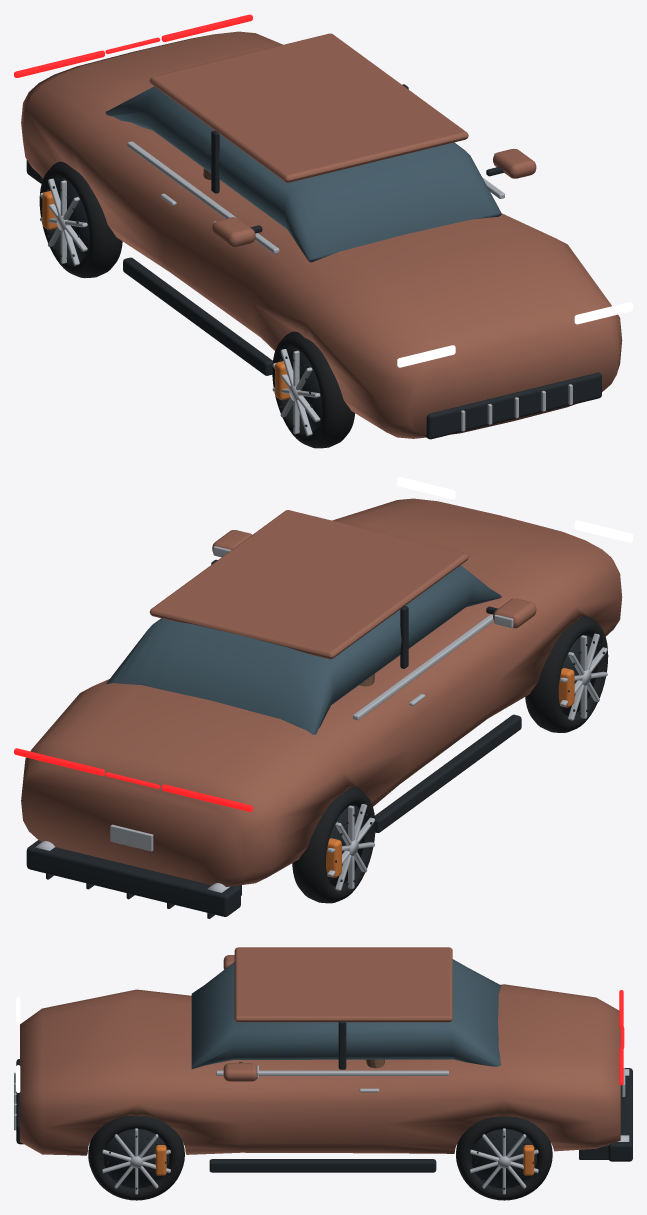
File: traffic-sedan.glb
3 views of the same model, one above another, from view 1: azimuth 30°, elevation 25°; view 2: azimuth 150°, elevation 25°; view 3: azimuth 270°, elevation 25° (orthographic). The views are drawn at different scales.
Visible parts, largest first — view 1: Sculpted coachwork.001, Floating roof.001, Glazed cabin.001, Front lower intake.001, Performance tire.004, Performance tire.005, Side skirt.002, Window sill.002, Wheel barrel.004, Wheel barrel.005, Mirror housing.002, Mirror housing.003 (+4 smaller); view 2: Sculpted coachwork.001, Floating roof.001, Glazed cabin.001, Rear diffuser.001, Performance tire.004, Performance tire.005, Side skirt.002, Window sill.002, Rear license plate.001, Mirror housing.002, Rear light blade.002, Rear light blade.003 (+2 smaller); view 3: Sculpted coachwork.001, Floating roof.001, Glazed cabin.001, Performance tire.006, Performance tire.007, Side skirt.003, Wheel barrel.007, Wheel barrel.006, Rear diffuser.001, Window sill.003, Mirror housing.003, B pillar.003.
Boxes of the visible parts, left/top/right/bottom form: Sculpted coachwork.001: left=21, top=31, right=622, bottom=438; Floating roof.001: left=149, top=33, right=468, bottom=182; Glazed cabin.001: left=105, top=86, right=501, bottom=262; Front lower intake.001: left=425, top=372, right=601, bottom=439; Performance tire.004: left=272, top=331, right=354, bottom=448; Performance tire.005: left=39, top=161, right=122, bottom=278; Side skirt.002: left=123, top=257, right=272, bottom=375; Window sill.002: left=127, top=141, right=279, bottom=253; Wheel barrel.004: left=286, top=350, right=321, bottom=430; Wheel barrel.005: left=53, top=180, right=89, bottom=260; Mirror housing.002: left=212, top=217, right=255, bottom=247; Mirror housing.003: left=493, top=148, right=536, bottom=178; Sculpted coachwork.001: left=21, top=498, right=622, bottom=886; Floating roof.001: left=149, top=510, right=468, bottom=659; Glazed cabin.001: left=106, top=565, right=501, bottom=734; Rear diffuser.001: left=26, top=840, right=240, bottom=916; Performance tire.004: left=525, top=616, right=608, bottom=732; Performance tire.005: left=292, top=787, right=375, bottom=903; Side skirt.002: left=375, top=714, right=521, bottom=832; Window sill.002: left=353, top=614, right=493, bottom=720; Rear license plate.001: left=110, top=824, right=153, bottom=851; Mirror housing.002: left=493, top=598, right=536, bottom=628; Rear light blade.002: left=161, top=784, right=252, bottom=811; Rear light blade.003: left=14, top=748, right=104, bottom=775; Sculpted coachwork.001: left=20, top=984, right=620, bottom=1155; Floating roof.001: left=234, top=947, right=452, bottom=1022; Glazed cabin.001: left=191, top=959, right=501, bottom=1069; Performance tire.006: left=88, top=1116, right=184, bottom=1200; Performance tire.007: left=456, top=1116, right=552, bottom=1200; Side skirt.003: left=209, top=1159, right=436, bottom=1172; Wheel barrel.007: left=471, top=1129, right=536, bottom=1188; Wheel barrel.006: left=103, top=1129, right=169, bottom=1188; Rear diffuser.001: left=608, top=1068, right=632, bottom=1161; Window sill.003: left=216, top=1070, right=448, bottom=1075; Mirror housing.003: left=223, top=1063, right=257, bottom=1081; B pillar.003: left=338, top=1021, right=346, bottom=1069.
Bounding box in the file's own units: 2.29 × 1.51 × 5.05.
